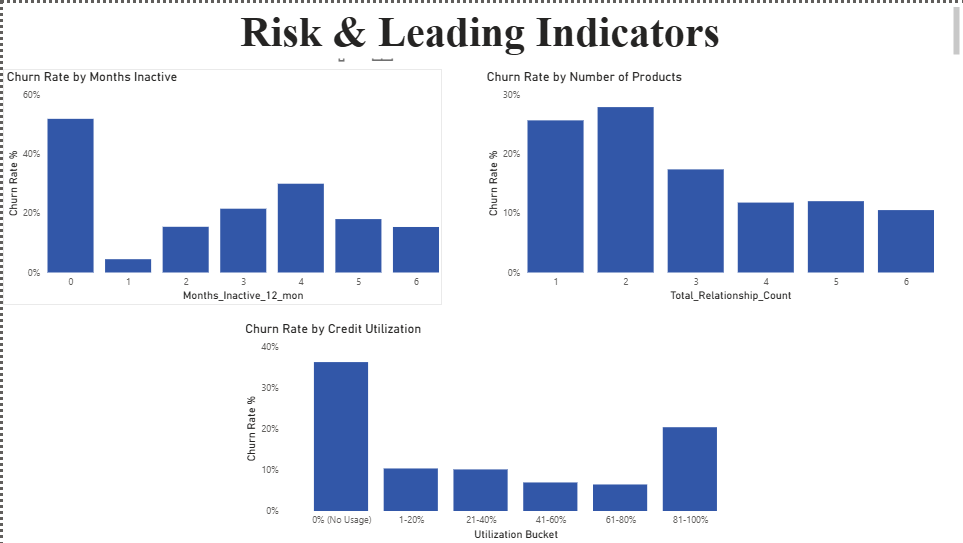

The page's visual inventory and layout, read from the dashboard file:
{"tool":"powerbi","page":{"name":"Risk & Leading Indicators","canvas":[1280,720],"ordinal":1},"visuals":[{"type":"clusteredColumnChart","title":"Churn Rate by Months Inactive","fields":{"Y":["BankChurners_clean.Churn Rate %"],"Category":["BankChurners_clean.Months_Inactive_12_mon"]},"box":[0,88,586,314],"z":0},{"type":"clusteredColumnChart","title":"Churn Rate by Number of Products","fields":{"Category":["BankChurners_clean.Total_Relationship_Count"],"Y":["BankChurners_clean.Churn Rate %"]},"box":[640,88,606,314],"z":1000},{"type":"clusteredColumnChart","title":"Churn Rate by Credit Utilization","fields":{"Y":["BankChurners_clean.Churn Rate %"],"Category":["BankChurners_clean.Utilization Bucket"]},"box":[318,424,678,296],"z":2000},{"type":"textbox","box":[0,0,1280,74],"z":2001}]}

Visuals, with their boxes in screenshot pixels (x1, y1, x2, y2), scaled from the page's 1280x720 canvas onto the 963x543 screenshot:
"Churn Rate by Months Inactive" clusteredColumnChart: bbox(0, 66, 441, 303)
"Churn Rate by Number of Products" clusteredColumnChart: bbox(482, 66, 937, 303)
"Churn Rate by Credit Utilization" clusteredColumnChart: bbox(239, 320, 749, 542)
textbox: bbox(0, 0, 962, 56)
